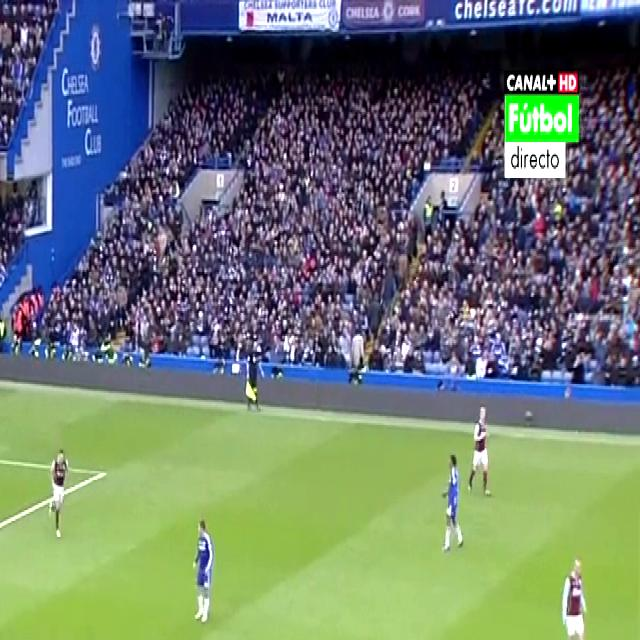referee: (244, 340, 264, 407)
soccer-player: (466, 401, 504, 508), (188, 514, 220, 630), (439, 450, 467, 559), (563, 546, 593, 640), (44, 442, 72, 536)
